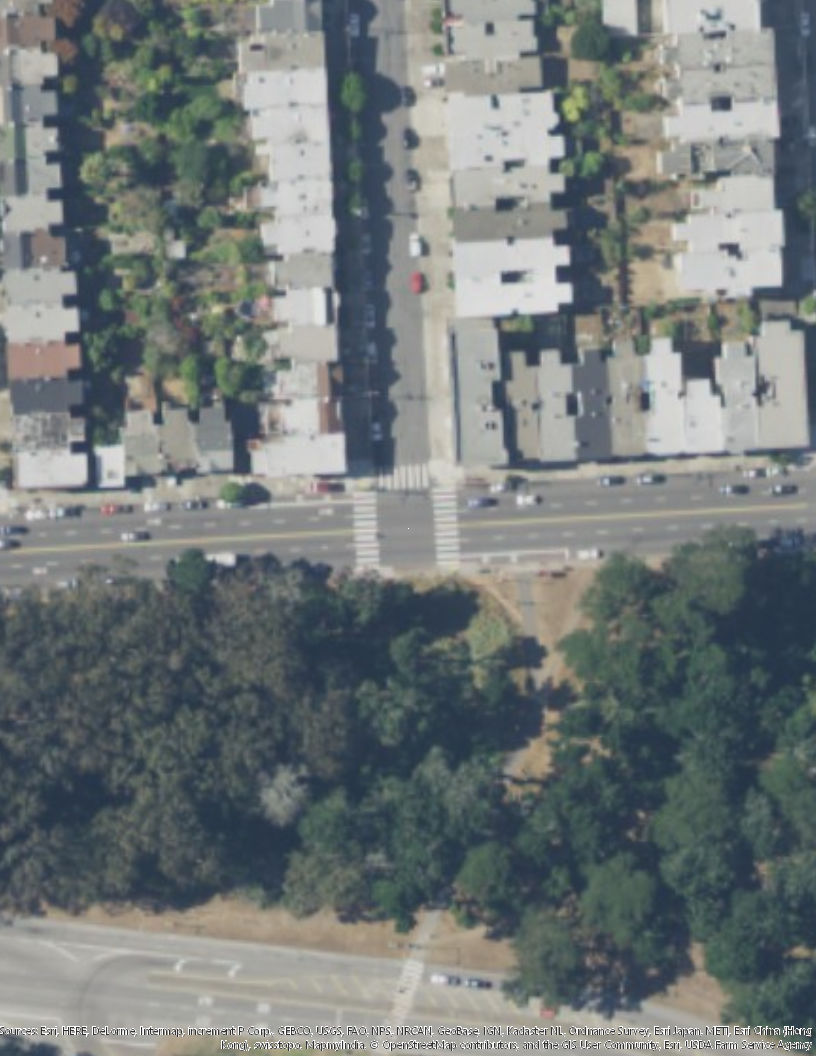zebracross: (351, 492, 380, 567), (432, 492, 459, 567), (378, 461, 428, 494)
